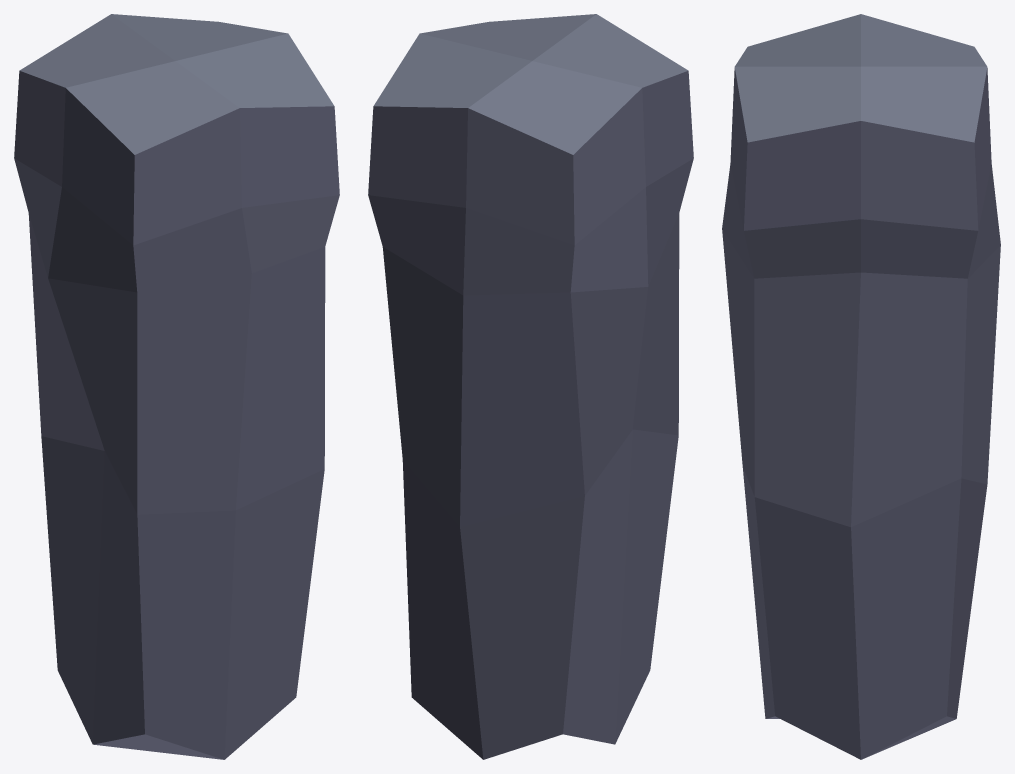
Rendered from pedra1.fbx.
3 renders of one model, left to right at view 1: azimuth 30°, elevation 25°; view 2: azimuth 150°, elevation 25°; view 3: azimuth 270°, elevation 25°, orthographic.
Visible parts, largest first — view 1: Cube.001; view 2: Cube.001; view 3: Cube.001.
Boxes of the visible parts, box(x1,y1,x2,y2) form: Cube.001: box(14, 14, 339, 759); Cube.001: box(368, 14, 693, 759); Cube.001: box(722, 14, 1000, 759).
Bounding box in the file's own units: 319 × 838 × 325.
